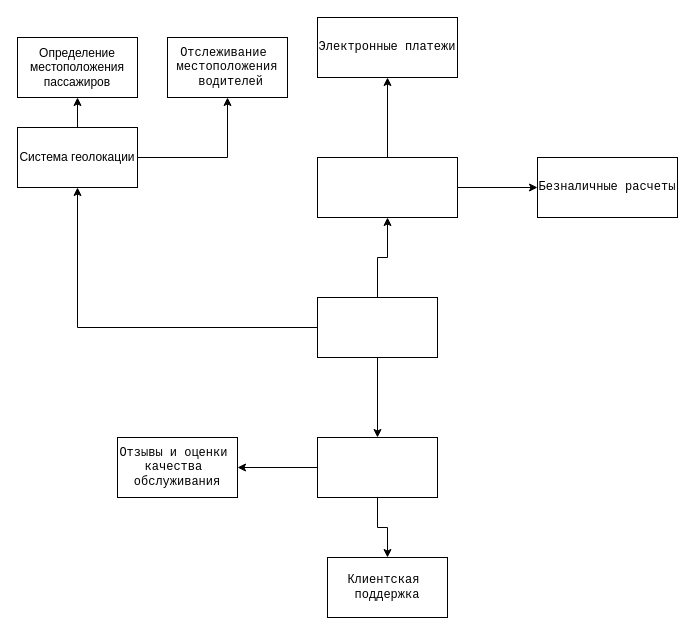
Some shapes in this 695 by 635 pixel diagram are drawn without their labels. The centre of each missing label's shape, as x and y in pixels:
"Сервис такси" goes at (377,327).
"Система обратной связи" goes at (377,467).
"Система оплаты и расчетов" goes at (387,187).
